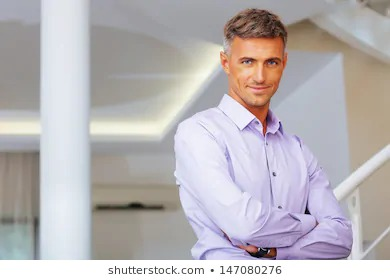F_shirt: (166, 97, 358, 259)
